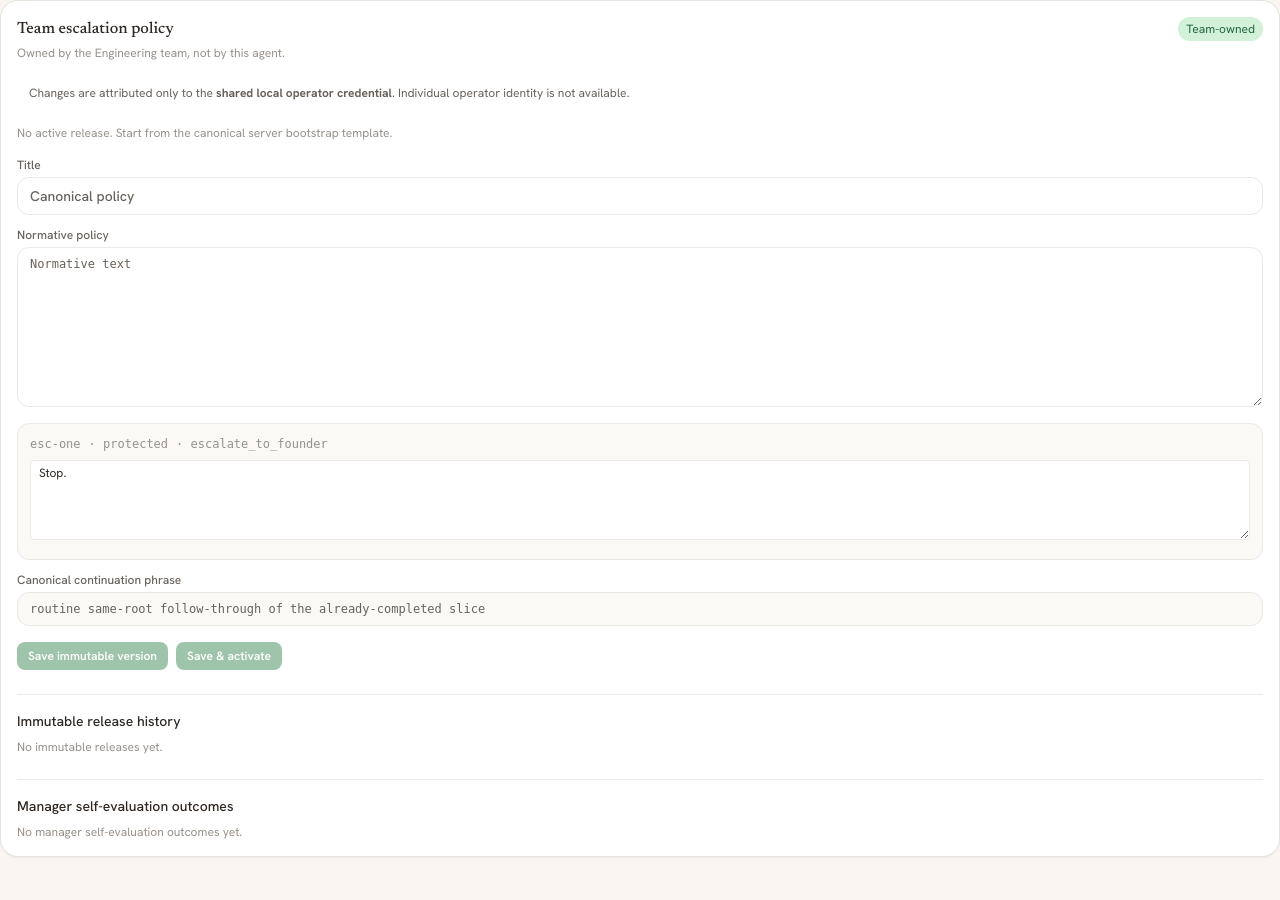
TeamEscalationPolicyCard › preserves dirty draft on conflict and saves an immutable inactive version
The image size is (1280, 900).
Replace the text in the field labelled "Title" with "Edited policy" at (640, 196), box [17,177,1263,215]
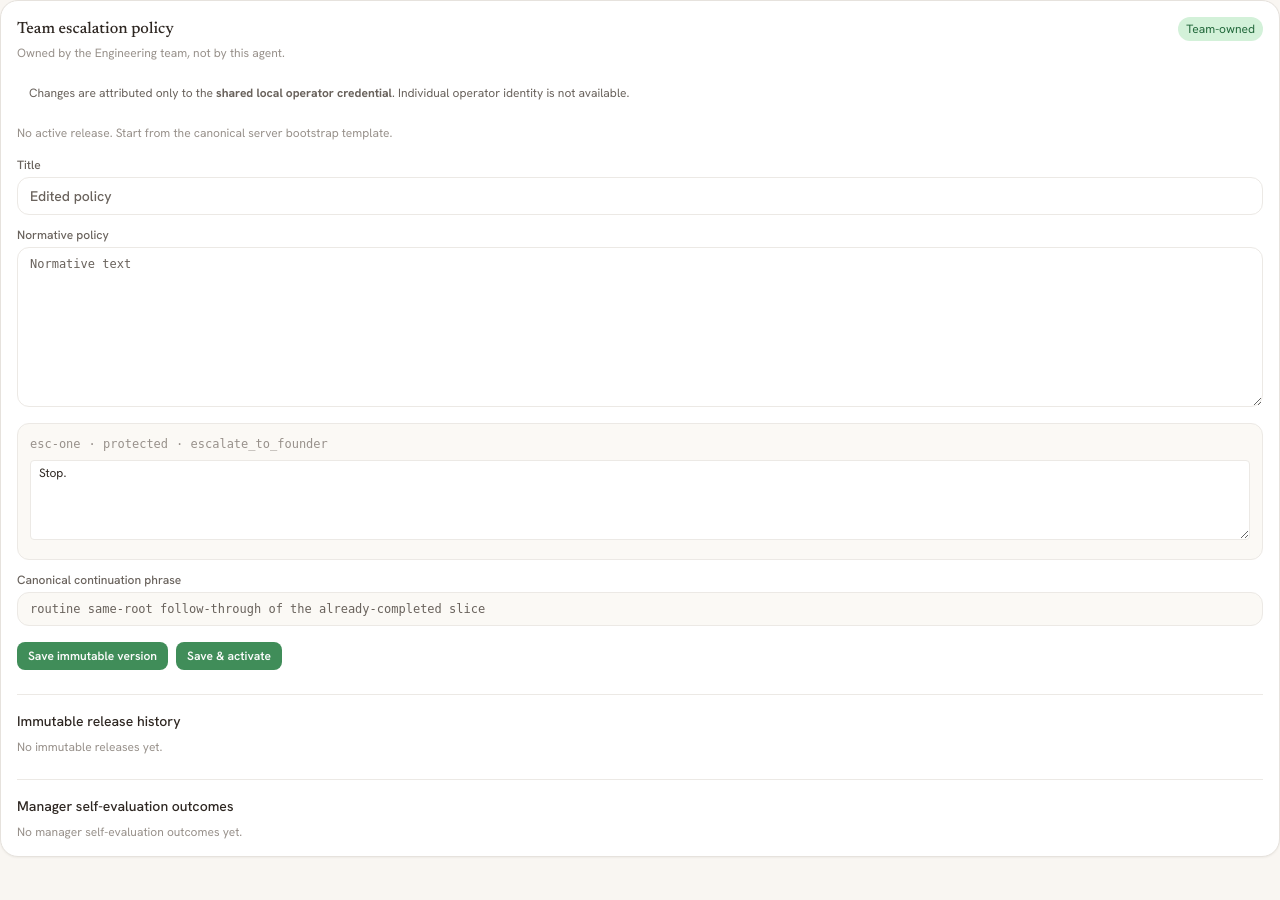
Click the button "Save immutable version" at (92, 656), box [17,642,168,670]
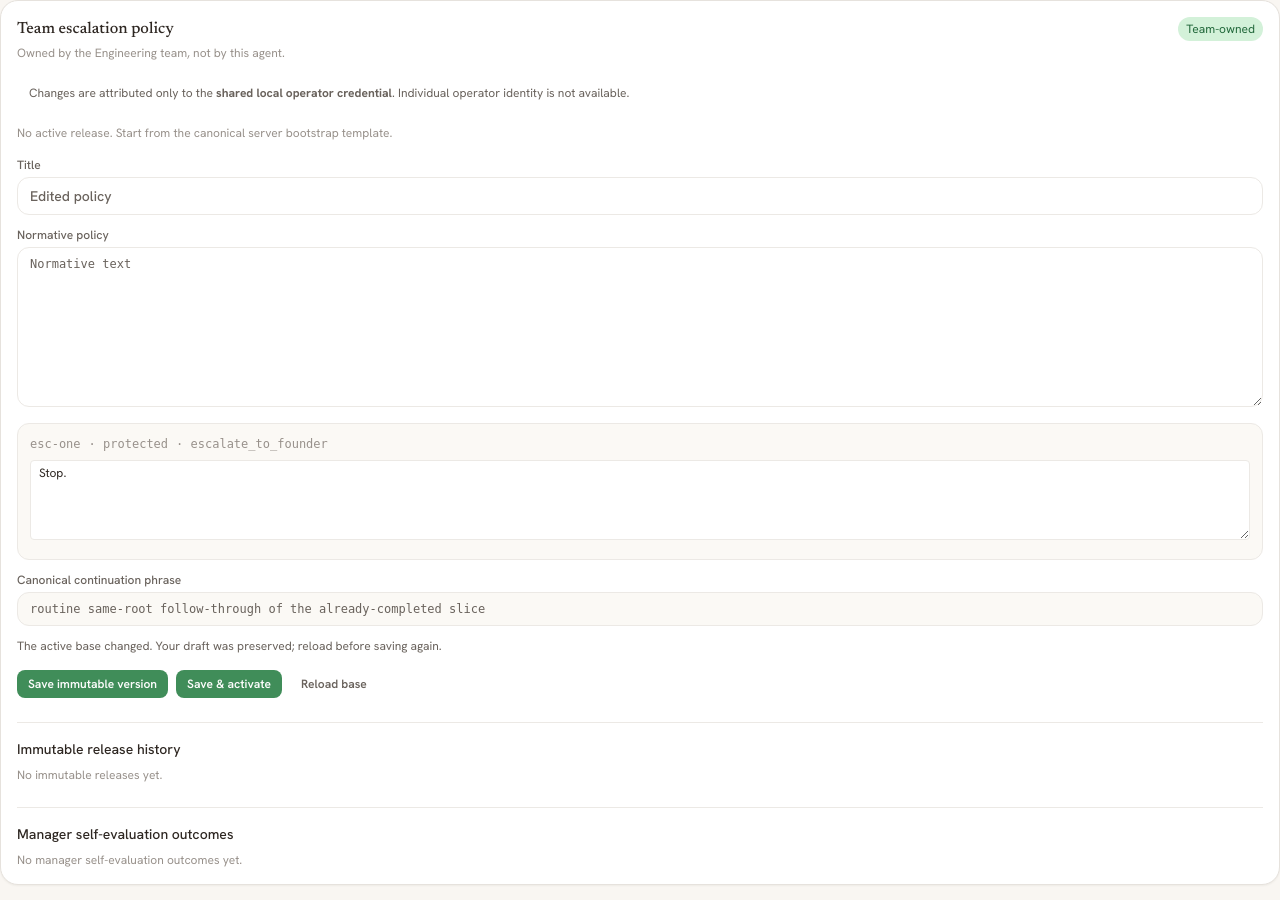
Now the text "The active base changed. Your draft was preserved; reload before saving again." is shown, box [17,638,442,654]
Click the button "Save immutable version" at (92, 684), box [17,670,168,698]
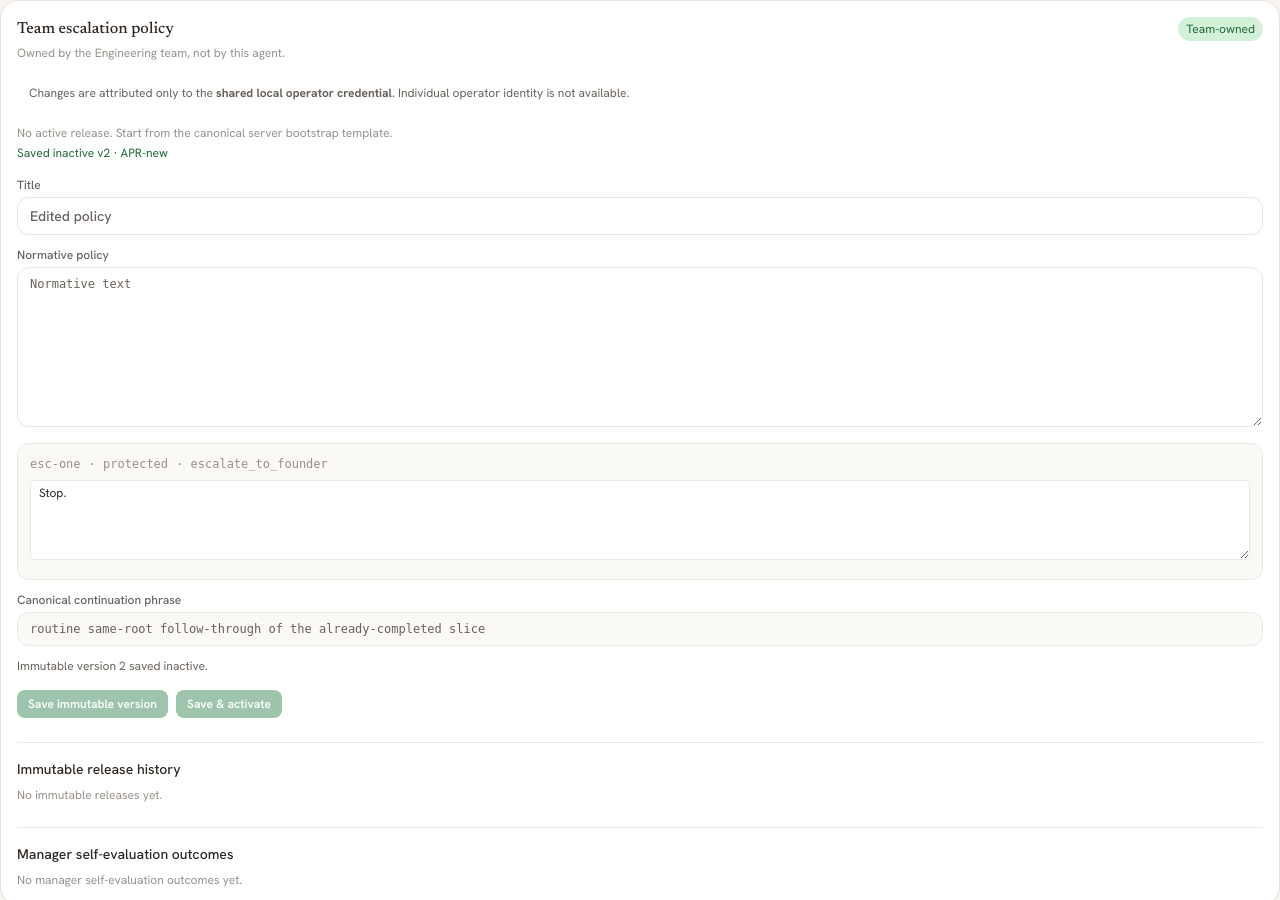
Now the text "Saved inactive v2 · APR-new" is shown, box [17,145,168,161]
